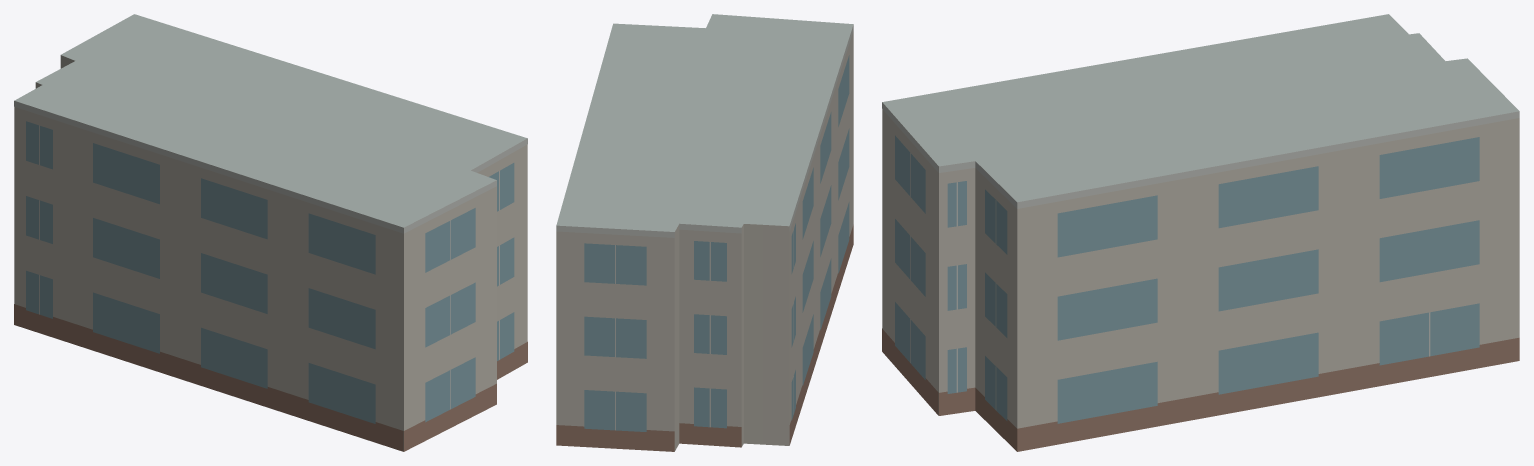
The model's file is survey-upis-32854656.glb.
The picture shows the model from 3 angles, left to right: view 1: azimuth 30°, elevation 25°; view 2: azimuth 150°, elevation 25°; view 3: azimuth 270°, elevation 25°; orthographic projection. The views are drawn at different scales.
Parts seen in each view (by area): view 1: survey-upis-32854656.tmp; view 2: survey-upis-32854656.tmp; view 3: survey-upis-32854656.tmp.
Part boxes in pixels (x1,y1,x2,y2): survey-upis-32854656.tmp: (14,14,527,451); survey-upis-32854656.tmp: (556,14,853,451); survey-upis-32854656.tmp: (882,14,1519,451).
Size of the model in its own units: 14.82 by 9.15 by 21.19.
